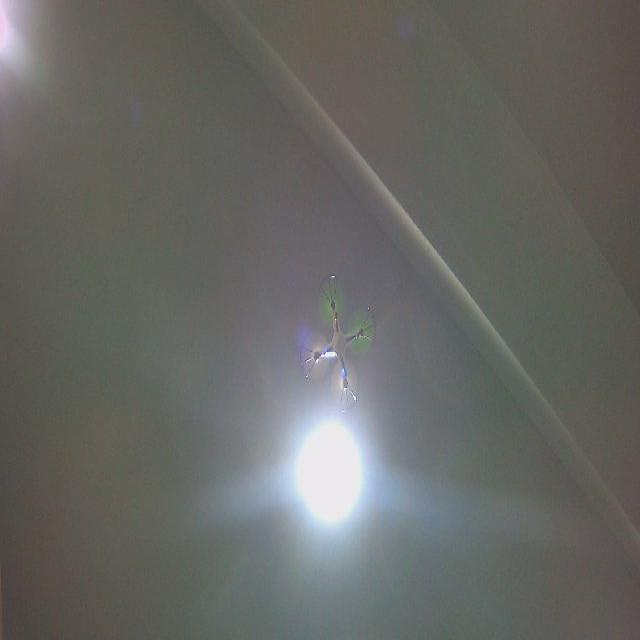drone: (298, 272, 380, 416)
